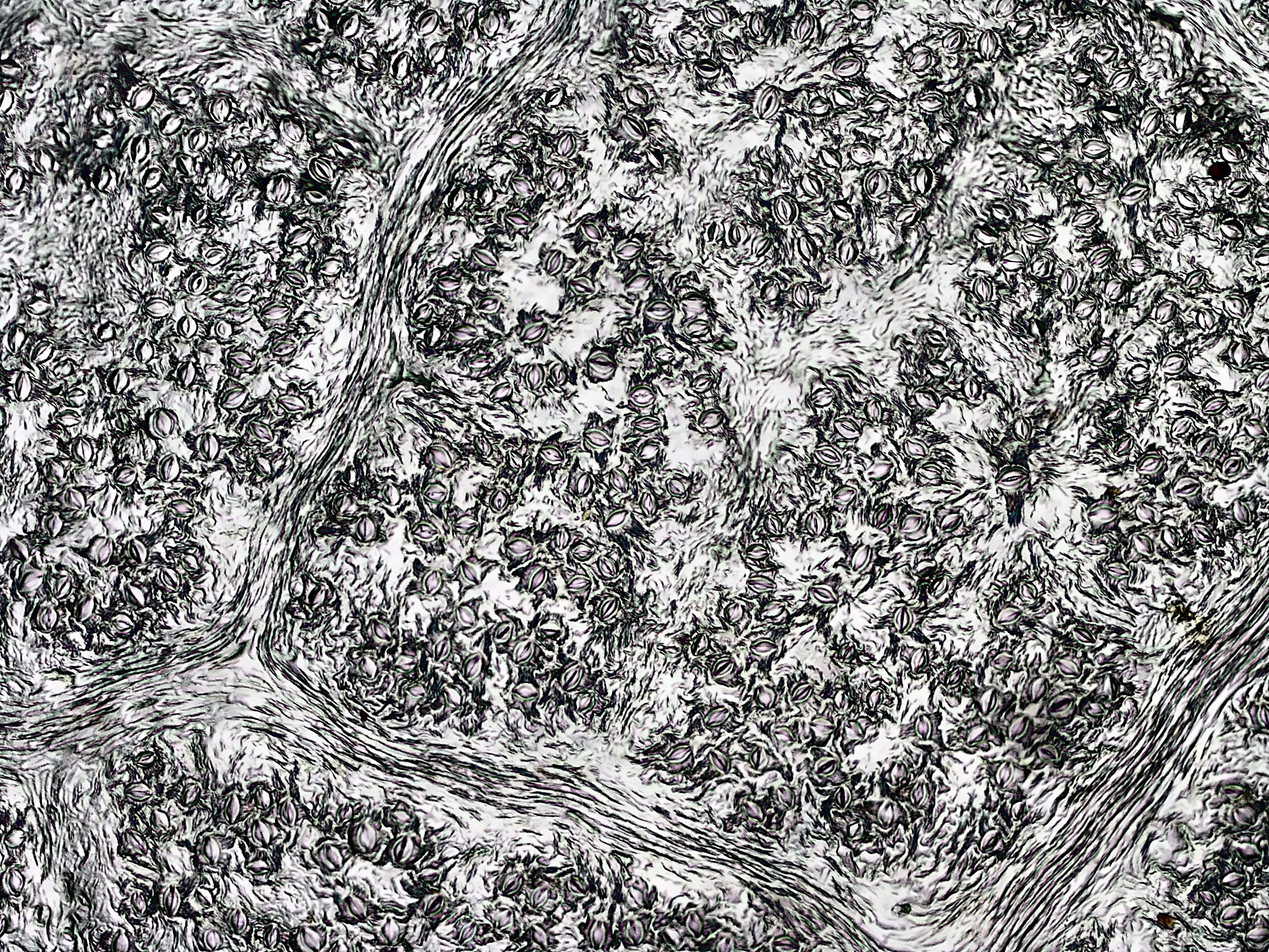stomata: (126, 80, 156, 113), (146, 409, 175, 441), (1088, 498, 1121, 526), (995, 465, 1030, 491), (904, 42, 933, 73), (316, 842, 346, 870), (758, 85, 782, 120), (265, 173, 290, 206), (352, 822, 380, 851), (207, 93, 233, 124), (586, 349, 617, 375), (1046, 692, 1076, 718), (198, 430, 222, 462), (961, 82, 988, 110), (863, 170, 889, 199), (1171, 473, 1202, 497), (89, 535, 112, 567), (280, 113, 306, 141), (426, 444, 452, 472), (525, 562, 547, 595), (827, 197, 856, 222), (1159, 350, 1188, 375), (627, 384, 657, 408), (275, 389, 306, 412), (391, 833, 414, 864), (1140, 105, 1162, 137), (698, 405, 724, 432), (2, 167, 27, 195), (773, 196, 798, 224), (309, 155, 333, 184), (33, 145, 57, 174), (390, 51, 414, 80), (1229, 339, 1253, 368), (830, 481, 859, 505), (756, 598, 785, 622), (833, 54, 863, 77), (1170, 104, 1193, 134), (260, 301, 291, 323), (914, 164, 936, 195), (587, 917, 607, 951), (122, 828, 147, 855), (1107, 67, 1134, 92), (1086, 243, 1113, 268), (1054, 654, 1082, 678), (107, 365, 130, 394), (450, 320, 479, 343), (175, 359, 197, 389), (381, 478, 403, 508), (1119, 182, 1149, 204), (11, 369, 32, 400), (249, 819, 274, 845), (455, 602, 480, 628), (21, 297, 57, 315), (344, 895, 368, 922), (621, 113, 645, 140), (414, 8, 437, 36), (133, 337, 156, 365), (745, 573, 777, 593), (284, 225, 313, 247), (812, 445, 841, 467), (864, 460, 894, 481), (499, 871, 524, 896), (939, 508, 964, 533), (299, 926, 323, 952), (528, 923, 552, 949), (941, 28, 967, 52), (752, 160, 776, 186), (1223, 292, 1247, 318), (337, 12, 360, 39), (185, 269, 208, 296), (1174, 187, 1201, 210), (665, 741, 692, 764), (480, 8, 500, 39), (122, 780, 153, 800), (523, 361, 543, 392), (220, 387, 248, 409), (623, 918, 645, 946), (849, 142, 877, 164), (1074, 168, 1096, 196), (923, 326, 951, 348), (834, 416, 862, 438), (988, 648, 1016, 670), (1007, 714, 1029, 742), (6, 324, 27, 353), (17, 572, 46, 593), (582, 426, 611, 447), (562, 662, 583, 691), (798, 233, 819, 262), (1027, 675, 1048, 704), (160, 885, 179, 917), (149, 808, 173, 833), (1090, 343, 1115, 367), (808, 584, 838, 604), (704, 704, 729, 728), (979, 686, 999, 716), (129, 136, 152, 162), (902, 434, 928, 457), (202, 243, 229, 265), (1080, 140, 1113, 158), (1136, 500, 1158, 527), (5, 866, 24, 897), (222, 792, 241, 823), (380, 916, 399, 947), (1010, 21, 1038, 42), (1071, 207, 1099, 228), (498, 127, 527, 147), (974, 275, 994, 304), (872, 502, 892, 531), (688, 908, 706, 940), (980, 28, 998, 60), (162, 113, 185, 138), (249, 419, 274, 442), (124, 582, 147, 607), (544, 167, 569, 190), (833, 83, 856, 108), (897, 204, 920, 229), (898, 511, 923, 534), (1155, 299, 1177, 325), (708, 748, 730, 774), (463, 651, 482, 681), (227, 347, 254, 368), (850, 0, 877, 21), (508, 176, 535, 197), (615, 239, 642, 260), (489, 487, 510, 514), (918, 90, 945, 111), (1022, 224, 1049, 245), (913, 388, 940, 409), (168, 498, 196, 518), (634, 38, 654, 66), (609, 465, 629, 493), (639, 490, 659, 518), (410, 520, 438, 540), (355, 514, 375, 542), (631, 413, 662, 431), (1233, 496, 1251, 527), (63, 487, 86, 511), (522, 320, 546, 343), (636, 437, 660, 460), (799, 174, 823, 197), (742, 797, 766, 820), (1194, 520, 1217, 544), (94, 161, 113, 190), (159, 453, 178, 482), (796, 14, 815, 43), (372, 617, 394, 642), (1113, 432, 1135, 457), (554, 132, 575, 158), (599, 597, 620, 623), (772, 724, 798, 745), (677, 292, 709, 309), (142, 297, 172, 315), (74, 438, 94, 465), (42, 456, 62, 483), (36, 606, 56, 633), (542, 248, 562, 275), (974, 224, 1001, 244), (1057, 266, 1075, 296), (808, 387, 835, 407), (878, 799, 896, 829), (568, 276, 596, 295), (750, 638, 778, 657), (1233, 842, 1261, 861), (1127, 362, 1150, 385), (173, 152, 195, 176), (147, 239, 171, 261), (94, 321, 118, 343), (477, 291, 499, 315), (540, 443, 564, 465), (1220, 905, 1244, 927), (177, 313, 198, 338), (627, 82, 648, 107), (689, 372, 714, 393), (1232, 804, 1257, 825), (270, 339, 299, 357), (644, 301, 673, 319), (851, 543, 869, 572), (910, 647, 928, 676), (52, 575, 72, 601), (452, 515, 478, 535), (723, 599, 743, 625), (807, 509, 826, 536), (425, 566, 441, 598), (141, 166, 163, 189), (711, 656, 734, 678), (842, 719, 865, 741), (169, 84, 193, 105), (77, 593, 95, 621), (230, 906, 248, 934), (665, 476, 686, 500), (565, 572, 589, 593), (459, 919, 477, 947), (937, 122, 961, 143), (1093, 42, 1117, 63), (963, 374, 981, 402), (943, 665, 964, 689), (1133, 532, 1154, 556), (645, 145, 665, 170), (605, 508, 630, 528), (514, 639, 534, 664), (502, 212, 533, 228), (51, 122, 70, 148), (429, 39, 448, 65), (283, 269, 309, 288), (544, 83, 563, 109), (925, 356, 951, 375), (744, 541, 770, 560), (1105, 559, 1131, 578), (279, 797, 296, 826), (461, 557, 478, 586), (996, 760, 1013, 789), (447, 186, 465, 213), (472, 248, 499, 266), (511, 681, 538, 699), (309, 584, 327, 611), (791, 283, 809, 310), (8, 538, 30, 560), (661, 925, 683, 947), (1070, 64, 1092, 86), (1246, 416, 1268, 438), (356, 50, 379, 71), (32, 340, 53, 363), (489, 383, 512, 404), (395, 653, 418, 674), (808, 94, 829, 117), (727, 222, 748, 245), (809, 716, 832, 737), (0, 56, 20, 80), (180, 783, 200, 807), (492, 619, 512, 643), (819, 148, 843, 168), (1015, 414, 1031, 444), (893, 603, 909, 633), (129, 538, 146, 566), (203, 835, 220, 863), (433, 634, 450, 662), (912, 558, 940, 575), (624, 273, 649, 292), (360, 654, 379, 679), (1098, 103, 1123, 122), (1161, 214, 1180, 239), (995, 604, 1020, 623), (790, 681, 809, 706), (812, 755, 837, 774), (303, 187, 329, 205), (112, 466, 138, 484), (161, 566, 179, 592), (1105, 275, 1123, 301), (1029, 317, 1047, 343), (1220, 870, 1246, 888), (53, 409, 82, 425), (4, 827, 26, 848), (573, 691, 594, 713), (763, 514, 784, 536), (253, 454, 273, 477), (1203, 393, 1226, 413), (968, 723, 988, 746), (467, 354, 494, 371), (866, 398, 883, 425), (64, 387, 88, 406), (756, 685, 775, 709), (422, 483, 447, 501), (1000, 252, 1025, 270), (577, 470, 593, 498), (460, 3, 477, 29), (262, 923, 279, 949), (694, 60, 720, 77), (993, 2, 1019, 19), (918, 462, 944, 479), (422, 894, 443, 915), (1075, 297, 1096, 318), (1130, 254, 1151, 275), (111, 930, 131, 952), (194, 885, 214, 907), (676, 31, 698, 51), (572, 539, 594, 559), (539, 620, 561, 640), (569, 874, 589, 896), (1139, 453, 1161, 473), (333, 138, 356, 157), (232, 282, 255, 301), (133, 750, 156, 769), (717, 41, 740, 60), (476, 182, 495, 205), (442, 684, 461, 707), (626, 887, 645, 910), (1221, 143, 1244, 162), (690, 632, 709, 655), (1135, 393, 1158, 412), (130, 890, 146, 917), (648, 347, 675, 363), (507, 536, 531, 554), (1103, 672, 1119, 699), (46, 512, 63, 537), (549, 361, 566, 386), (864, 97, 889, 114), (779, 784, 796, 809), (705, 5, 726, 25), (1029, 255, 1049, 276), (750, 744, 765, 772), (112, 613, 134, 632), (423, 325, 442, 347), (1037, 146, 1059, 165), (989, 203, 1011, 222), (1163, 526, 1182, 548), (476, 430, 492, 456), (834, 686, 850, 712), (188, 126, 206, 149), (438, 274, 461, 292), (1073, 626, 1096, 644), (233, 153, 250, 177), (322, 54, 346, 71), (833, 785, 850, 809), (1220, 779, 1244, 796), (0, 87, 14, 116), (505, 449, 525, 469), (1021, 581, 1041, 601), (866, 686, 882, 711), (179, 553, 200, 572), (1038, 745, 1059, 764), (598, 556, 616, 578), (296, 37, 324, 51), (254, 786, 271, 809), (1219, 221, 1242, 238), (244, 859, 270, 874), (320, 259, 344, 275), (1198, 308, 1214, 332), (1172, 416, 1191, 436), (1223, 453, 1242, 473), (335, 802, 353, 823), (414, 301, 432, 322), (1187, 269, 1205, 290), (912, 779, 926, 806), (842, 237, 855, 266), (389, 808, 411, 825), (1101, 404, 1123, 421), (1083, 699, 1105, 716), (216, 316, 232, 339), (1198, 434, 1214, 457), (684, 322, 710, 336), (916, 714, 929, 742), (149, 204, 168, 223), (620, 328, 639, 347), (582, 222, 602, 240), (1229, 179, 1251, 195), (840, 641, 856, 663), (705, 223, 722, 243), (314, 7, 328, 31), (206, 929, 222, 950), (416, 868, 440, 882), (761, 279, 776, 301), (750, 12, 763, 37), (95, 130, 113, 148), (753, 238, 772, 255), (289, 576, 303, 599), (1253, 217, 1269, 237), (100, 103, 115, 124), (931, 576, 946, 597), (555, 525, 568, 549), (193, 204, 207, 226), (532, 885, 549, 903), (405, 685, 426, 699), (1257, 367, 1269, 391), (1246, 928, 1268, 941), (1198, 889, 1217, 904), (1256, 245, 1269, 266), (1257, 195, 1269, 211)
